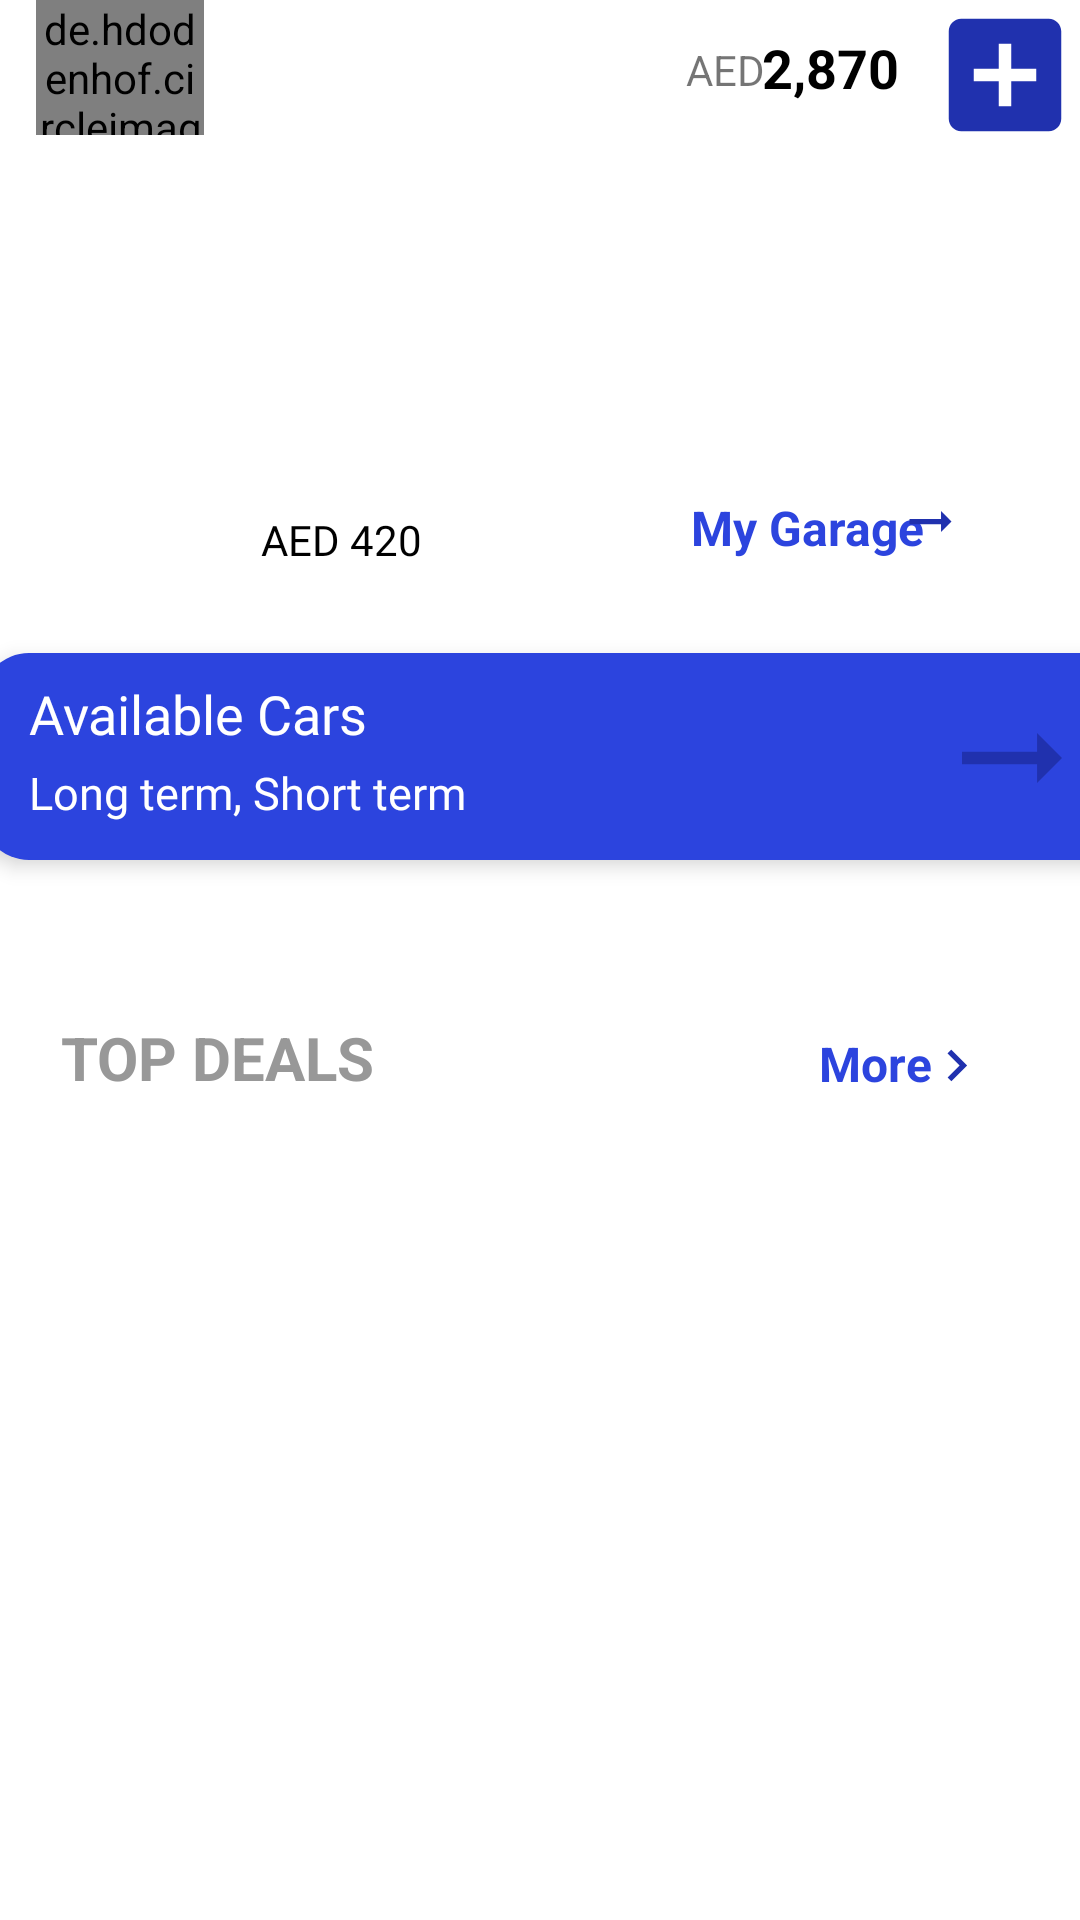

Where icons sit on this 1080x1920 app screen, as [x1,y1,x2,y2]:
add box: [948,18,1062,132]
keyboard arrow right: [947,1049,967,1081]
